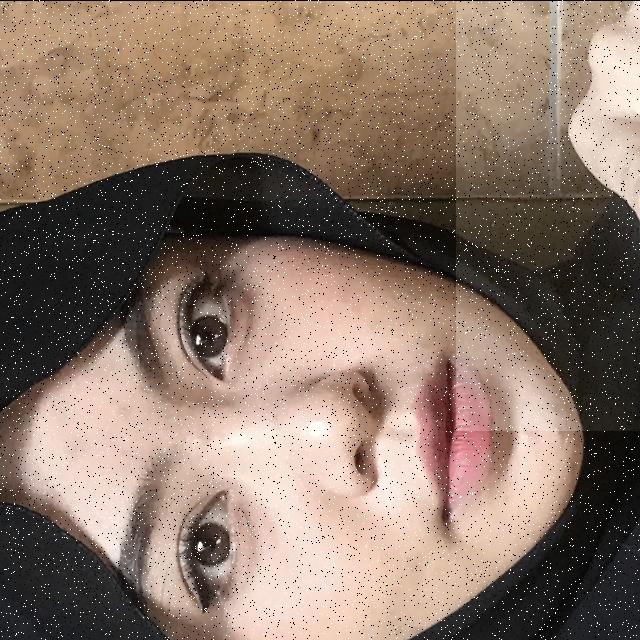kamu: (456, 0, 640, 430)
